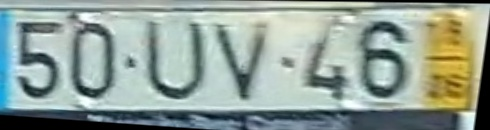0: (69, 21, 115, 102)
4: (299, 19, 353, 104)
5: (14, 20, 64, 101)
6: (356, 18, 413, 102)
U: (144, 19, 206, 102)
V: (210, 22, 271, 103)
